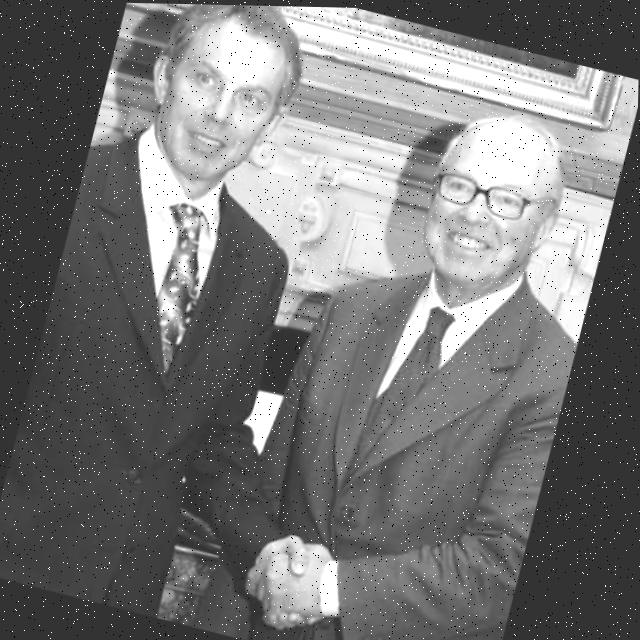face: (139, 12, 293, 194), (418, 117, 563, 288)
